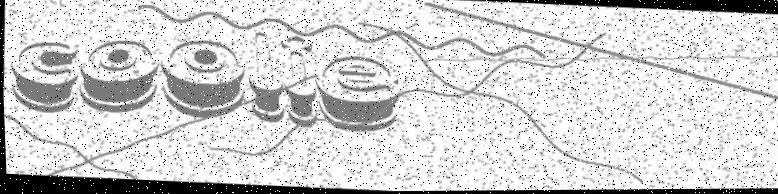c: (6, 38, 81, 115)
e: (312, 54, 401, 135)
i: (275, 35, 320, 129)
l: (244, 31, 288, 125)
o: (156, 38, 249, 121), (76, 37, 161, 116)
